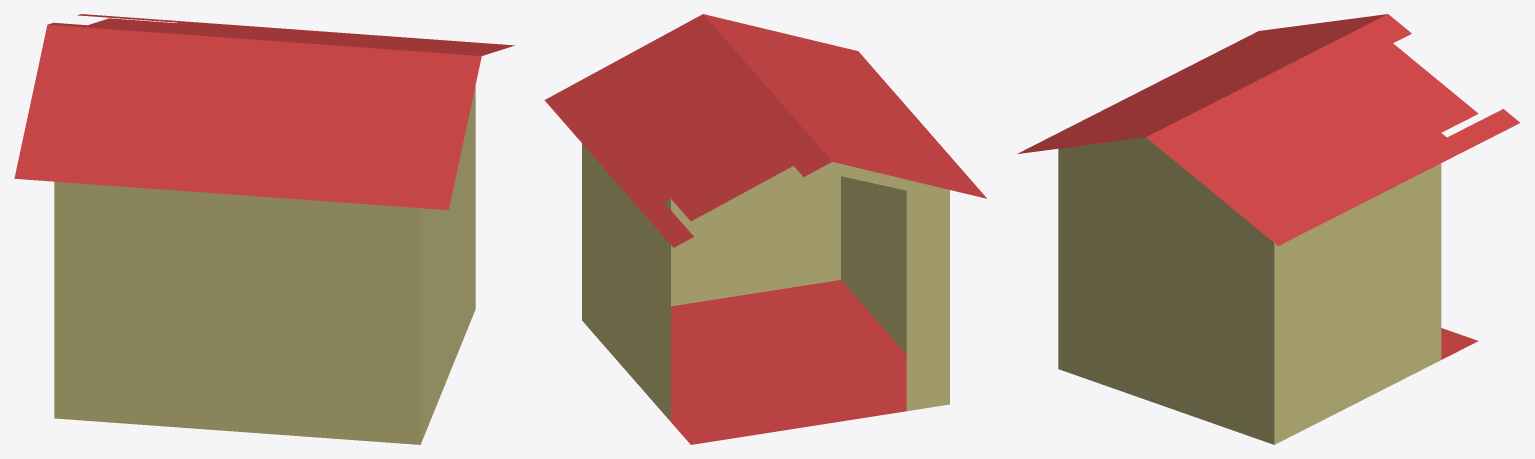
3 views of the same model, side by side, from view 1: azimuth 30°, elevation 25°; view 2: azimuth 150°, elevation 25°; view 3: azimuth 270°, elevation 25° (orthographic). The views are drawn at different scales.
Bounding box in the file's own units: 17.16 × 16.99 × 10.37.
